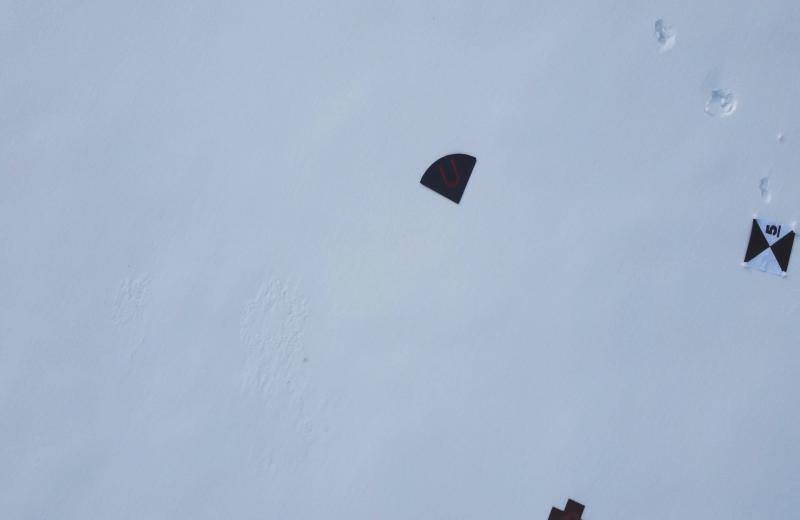Cross: (548, 495, 590, 520)
Quarter Circle: (422, 150, 479, 206)
